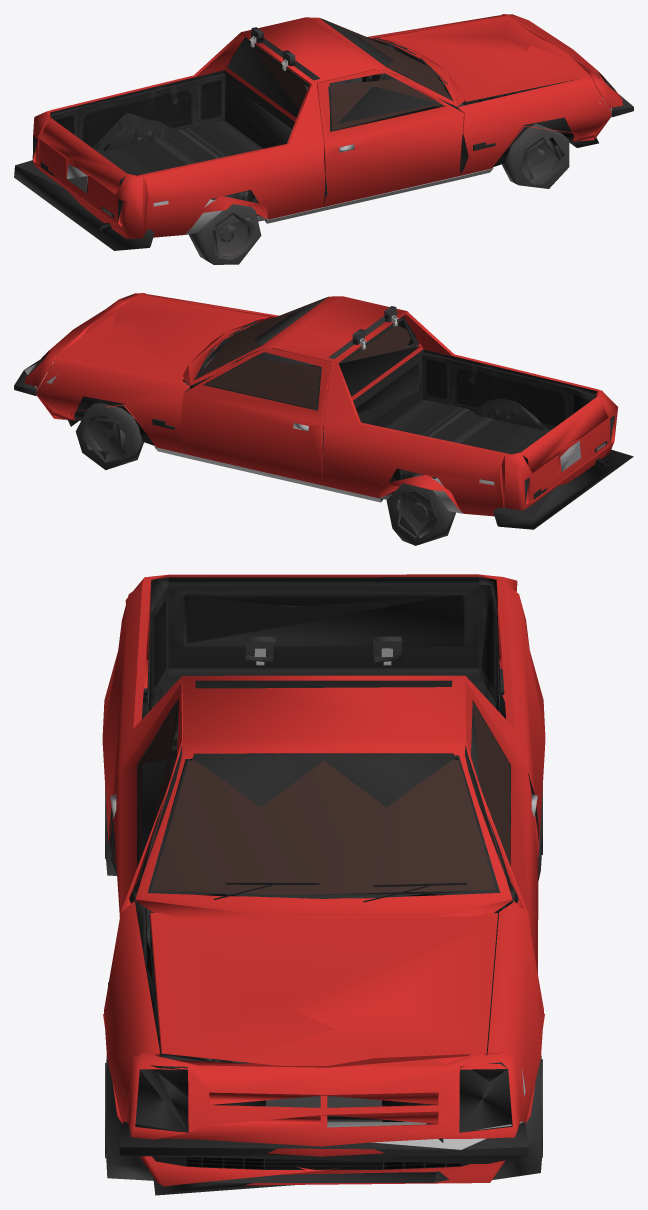
The model's file is car-sedan.lod0.glb.
3 views of the same model, one above another, from view 1: azimuth 30°, elevation 25°; view 2: azimuth 150°, elevation 25°; view 3: azimuth 270°, elevation 25° (orthographic). The views are drawn at different scales.
Parts seen in each view (by area): view 1: DOUTRIVE78_Body_DOUTRIVE78_bodymat_0, DOUTRIVE78_BUMPER_REAR_UCB_BOTTOM_0; view 2: DOUTRIVE78_Body_DOUTRIVE78_bodymat_0, DOUTRIVE78_BUMPER_REAR_UCB_BOTTOM_0; view 3: DOUTRIVE78_Body_DOUTRIVE78_bodymat_0, DOUTRIVE78_BUMPER_REAR_UCB_BOTTOM_0.
Part boxes in pixels (box(x1,y1,x2,y2)): DOUTRIVE78_Body_DOUTRIVE78_bodymat_0: box(32, 14, 622, 264); DOUTRIVE78_BUMPER_REAR_UCB_BOTTOM_0: box(14, 14, 633, 250); DOUTRIVE78_Body_DOUTRIVE78_bodymat_0: box(24, 293, 617, 545); DOUTRIVE78_BUMPER_REAR_UCB_BOTTOM_0: box(14, 295, 633, 529); DOUTRIVE78_Body_DOUTRIVE78_bodymat_0: box(102, 574, 545, 1186); DOUTRIVE78_BUMPER_REAR_UCB_BOTTOM_0: box(108, 577, 538, 1195).
Size of the model in its own units: 4.62 by 1.37 by 1.69.
Materials: 2 (1 with a texture image).
